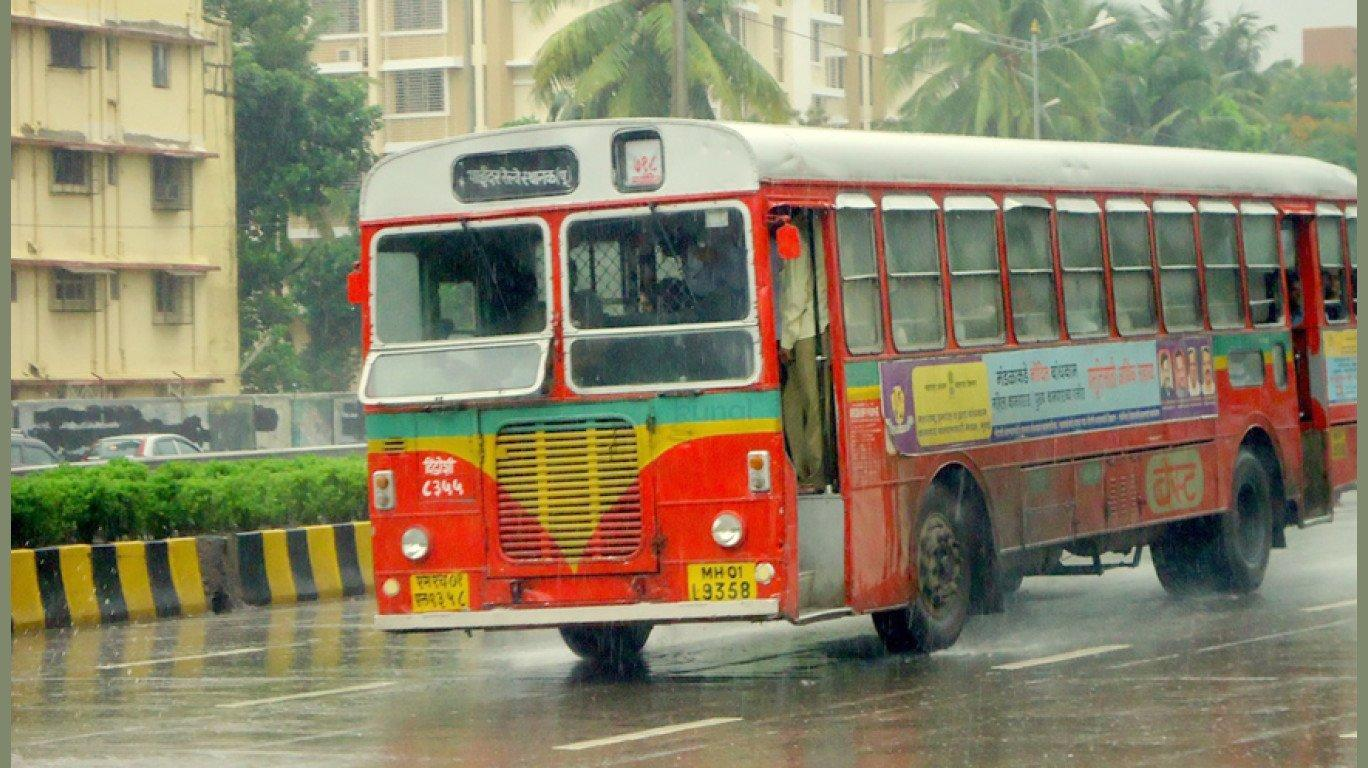Bus: (349, 119, 1368, 684)
